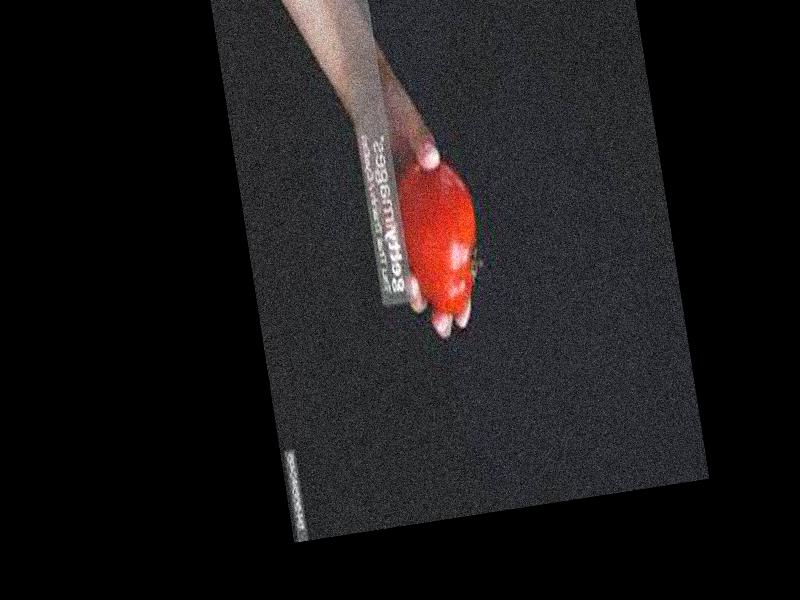Tomato: (391, 159, 490, 325)
